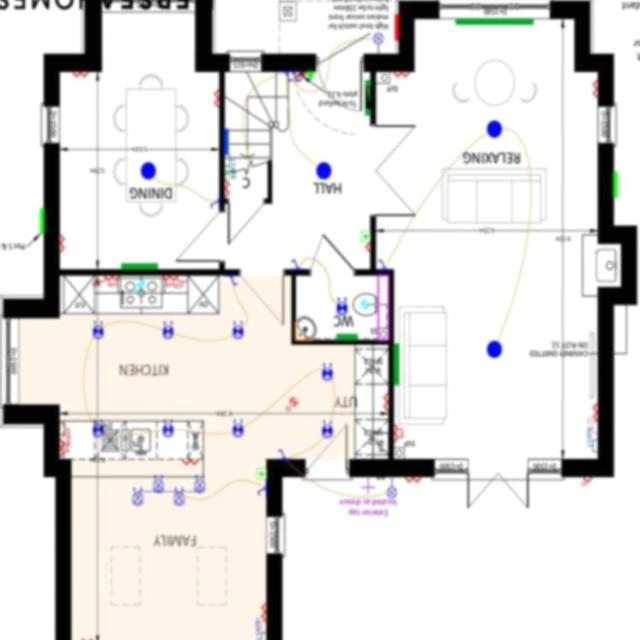BT Entry Point: (308, 73, 316, 81)
Cat 6 Data Socket: (225, 156, 238, 180), (588, 428, 598, 453), (256, 622, 267, 640)
Ceiling Mounted Continuous Extract FanWith Boost Mode Activated By Light Switch: (362, 301, 371, 311)
Ceiling Mounted Continuous Extract FanWith Local Boost Switch: (286, 398, 298, 413)
Co-Ax TV Socket: (256, 618, 268, 634), (588, 418, 599, 434)
Consumer Unit: (366, 86, 371, 110)
Double Socket: (73, 73, 89, 81), (394, 73, 410, 81), (226, 181, 233, 198), (592, 404, 599, 421), (214, 90, 220, 109), (183, 460, 199, 467), (407, 478, 423, 485), (61, 235, 67, 253), (261, 604, 267, 621), (593, 81, 599, 98), (384, 394, 389, 412), (80, 638, 96, 640)
Electric Meter Box: (395, 15, 400, 42)
External Wall Light: (374, 34, 384, 55), (389, 479, 398, 499)
Gas Meter Box: (41, 209, 46, 235), (614, 173, 619, 198)
Grid Switch: (61, 424, 72, 445)
Hob Switch: (93, 276, 106, 288)
Light Switch: (277, 450, 288, 461), (257, 487, 267, 497), (378, 259, 387, 270), (293, 73, 302, 83), (211, 200, 221, 209), (292, 260, 301, 270), (231, 277, 239, 288), (285, 73, 293, 82)
Low Energy Downlighter: (233, 322, 246, 341), (322, 363, 334, 382), (163, 322, 175, 341), (322, 420, 333, 440), (233, 419, 244, 438), (163, 421, 175, 438), (338, 298, 348, 317), (94, 421, 105, 438), (94, 322, 105, 339)
Low Energy Pendant Light: (317, 163, 333, 180), (487, 342, 503, 359), (142, 163, 157, 181), (488, 121, 503, 139)
Outside Socket: (293, 73, 308, 82), (582, 478, 592, 487)
Outside Tap: (362, 479, 377, 496)
Oven Switch: (175, 277, 189, 289)
Programmable Room Thermostat: (257, 469, 268, 482), (361, 232, 372, 244)
Radiator: (456, 19, 534, 26), (122, 264, 159, 270), (366, 80, 372, 116), (396, 345, 400, 386), (338, 336, 359, 342)
Recirculating Extractor Fan: (135, 281, 146, 296)
Single Socket: (366, 244, 372, 253)
Telephone Socket: (226, 167, 236, 180)
Track Light: (132, 475, 206, 507)
USB Double Socket: (394, 426, 406, 444), (163, 276, 178, 288), (106, 277, 121, 288), (61, 440, 70, 457)
Underfloor Heating Manifold: (226, 130, 230, 155)
